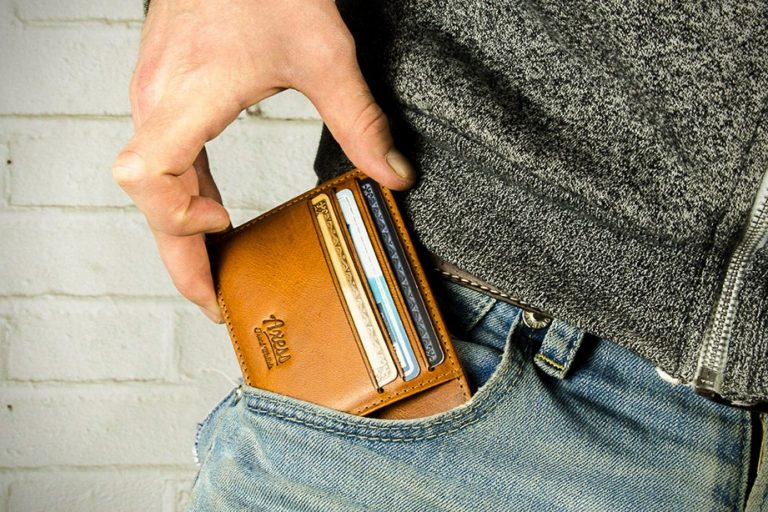monedero: (203, 165, 474, 422)
